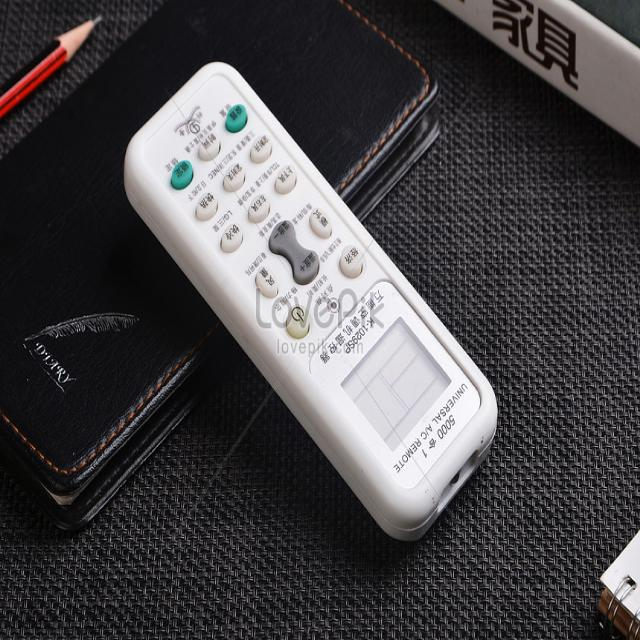remote: (124, 55, 499, 542)
